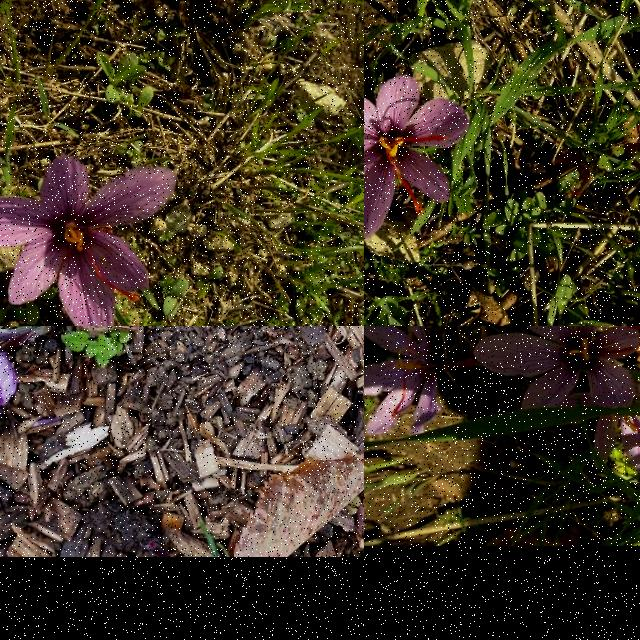flower: (0, 155, 177, 326), (364, 76, 469, 239), (474, 326, 640, 411), (364, 326, 472, 435), (558, 384, 640, 470), (0, 351, 18, 445)
